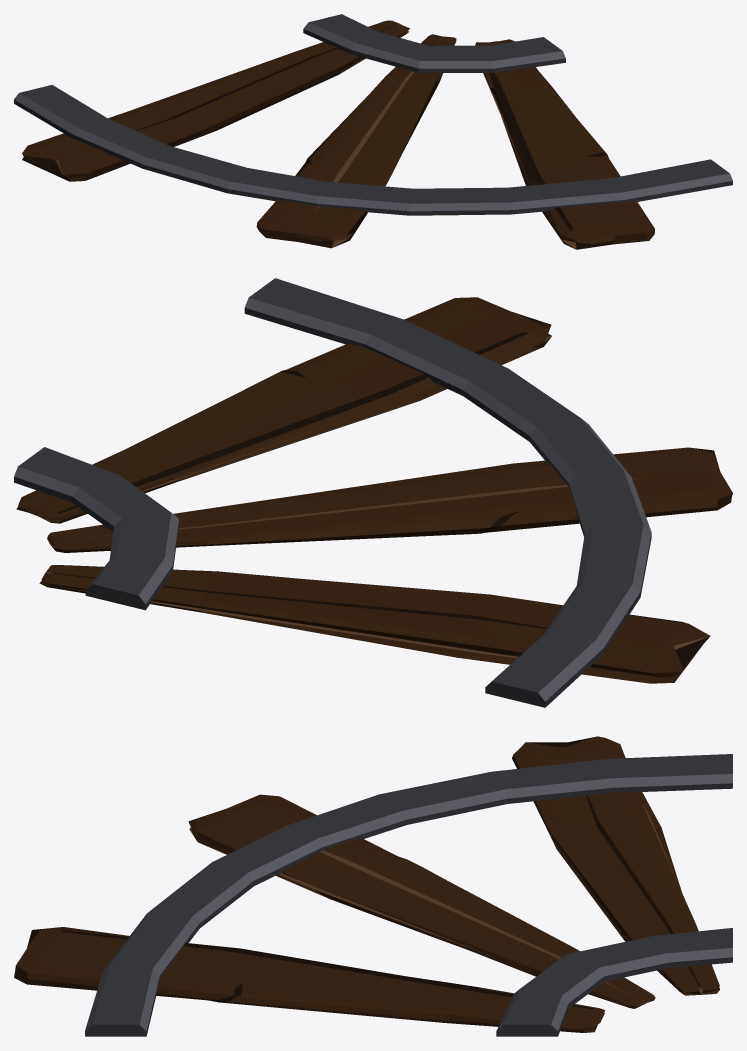
The model's file is TrainTrack_Curve_01.glb.
3 renders of one model, top to bottom at view 1: azimuth 30°, elevation 25°; view 2: azimuth 150°, elevation 25°; view 3: azimuth 270°, elevation 25°, orthographic. The views are drawn at different scales.
Visible parts, largest first — view 1: TrainTrack_Curve_01; view 2: TrainTrack_Curve_01; view 3: TrainTrack_Curve_01.
Part boxes in pixels (left/top/right/bottom): TrainTrack_Curve_01: left=14, top=14, right=732, bottom=249; TrainTrack_Curve_01: left=14, top=278, right=732, bottom=707; TrainTrack_Curve_01: left=14, top=736, right=732, bottom=1036.
Size of what is drawn, in the model's own units: 1.73 by 0.0635 by 1.75.
1 material, 1 textured.
